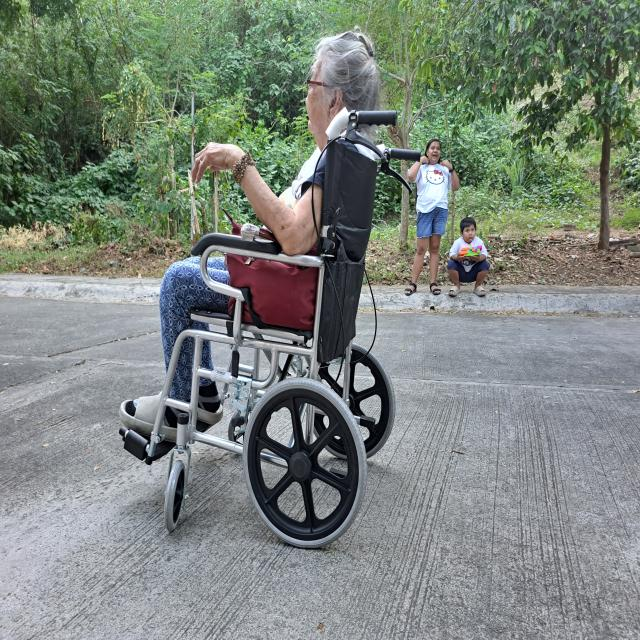wheelchairs: (120, 107, 426, 556)
